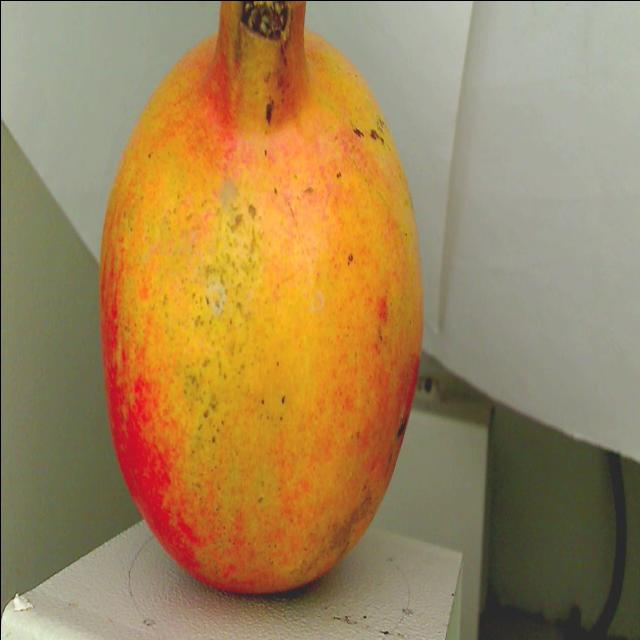pomegranate: (78, 0, 439, 614)
